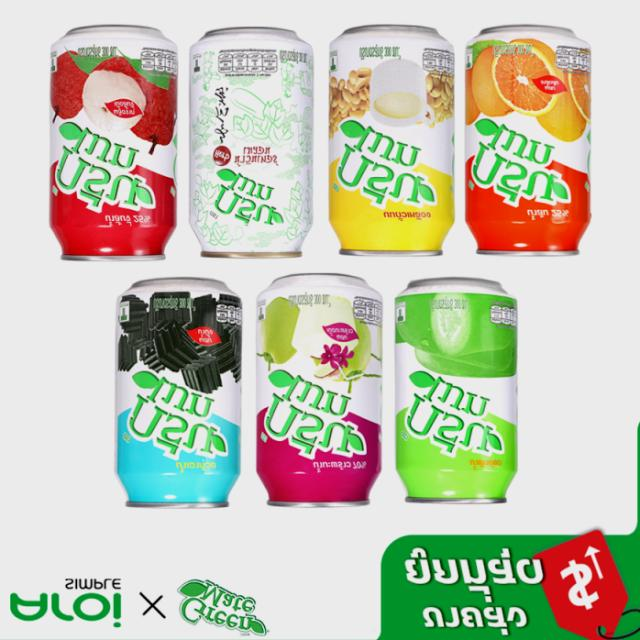can: (48, 22, 178, 264), (324, 23, 456, 261), (113, 276, 244, 510), (464, 23, 592, 261), (187, 26, 315, 262), (255, 272, 382, 508), (391, 276, 521, 506)
